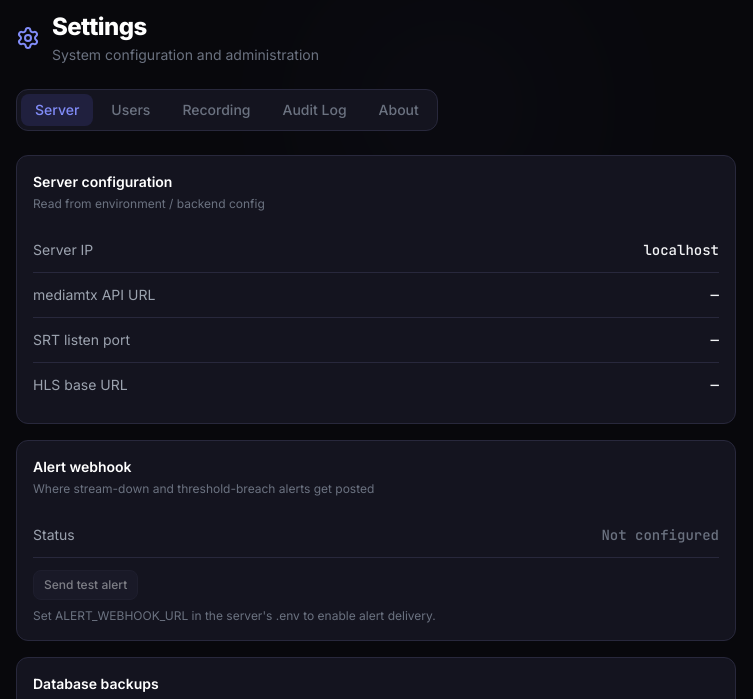
Test: SettingsPage › shows "Never logged in" for a user with no last_login, and a timestamp for one who has
The image size is (753, 699).
Click the tab "Users": point(131, 110) 97,94 -> 164,126
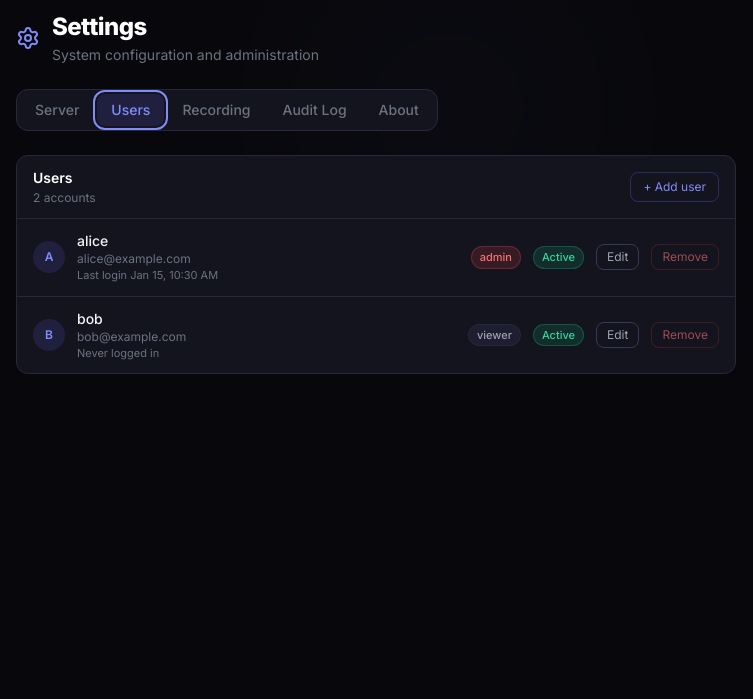
Expected: the text "alice" is shown, 77,232 -> 108,249
Expected: the text "Never logged in" is shown, 77,346 -> 159,360
Expected: the text "Last login Jan 15, 10:30 AM" is shown, 77,267 -> 218,284
